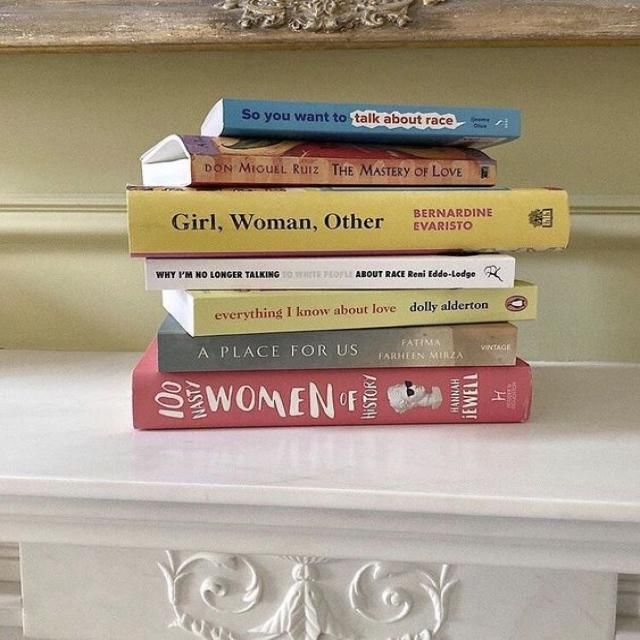book: (133, 338, 531, 429), (126, 185, 568, 254), (163, 281, 537, 336), (221, 99, 521, 148), (157, 334, 516, 364), (148, 258, 514, 287), (190, 155, 494, 184)
